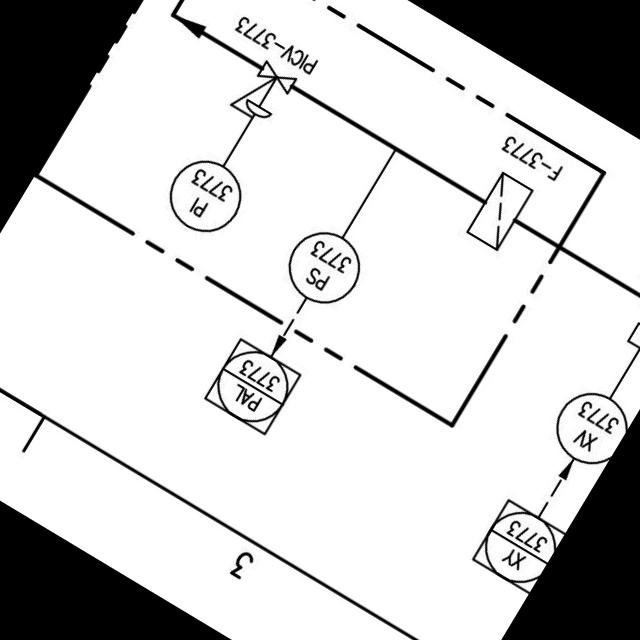F: (456, 162, 540, 258)
PCV: (224, 54, 299, 136)
SV: (617, 284, 640, 363)
